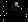person: (10, 4, 18, 14), (4, 5, 10, 16)
